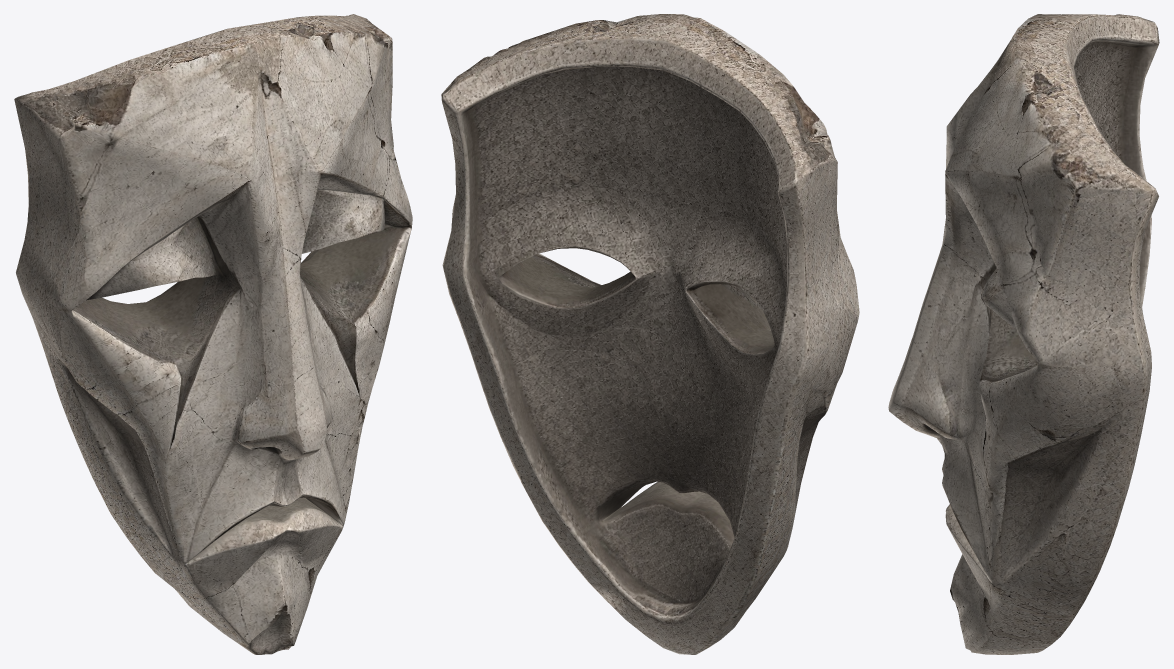
Rendered from rostro_1_escalera.glb.
3 views of the same model, side by side, from view 1: azimuth 30°, elevation 25°; view 2: azimuth 150°, elevation 25°; view 3: azimuth 270°, elevation 25° (orthographic). The views are drawn at different scales.
Visible parts, largest first — view 1: tripo_node_b394ad07-ce29-4f9b-af7b-113a4a6b9ee6; view 2: tripo_node_b394ad07-ce29-4f9b-af7b-113a4a6b9ee6; view 3: tripo_node_b394ad07-ce29-4f9b-af7b-113a4a6b9ee6.
Boxes of the visible parts, left/top/right/bottom form: tripo_node_b394ad07-ce29-4f9b-af7b-113a4a6b9ee6: left=14, top=14, right=412, bottom=654; tripo_node_b394ad07-ce29-4f9b-af7b-113a4a6b9ee6: left=441, top=14, right=859, bottom=654; tripo_node_b394ad07-ce29-4f9b-af7b-113a4a6b9ee6: left=888, top=14, right=1159, bottom=654.
Bounding box in the file's own units: 0.6216 × 0.9995 × 0.4028.
Materials: 1 (1 with a texture image).
